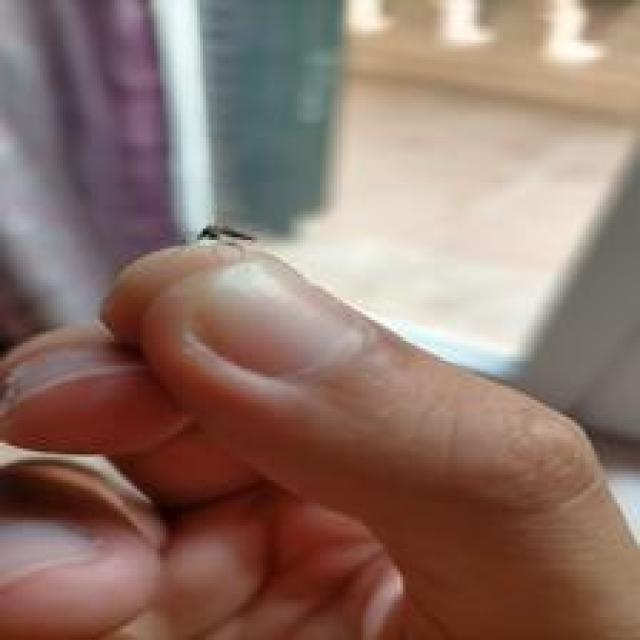Aedes albopictus: (189, 219, 257, 250)
